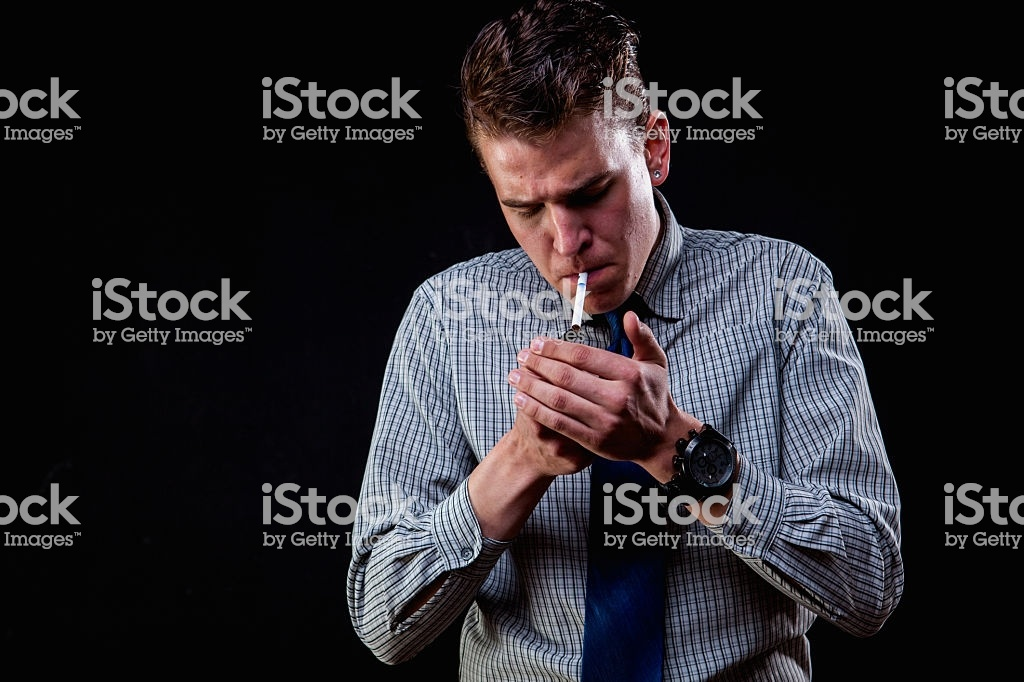sigaretta: (563, 256, 600, 343)
